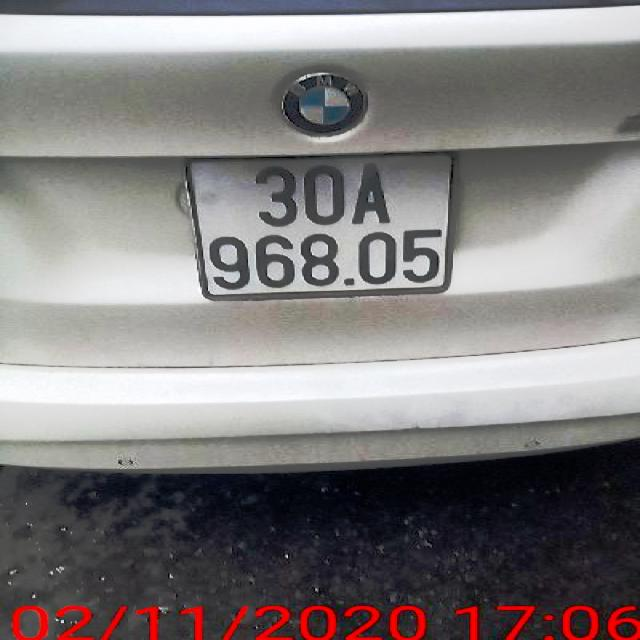license_plate: (191, 154, 454, 296)
